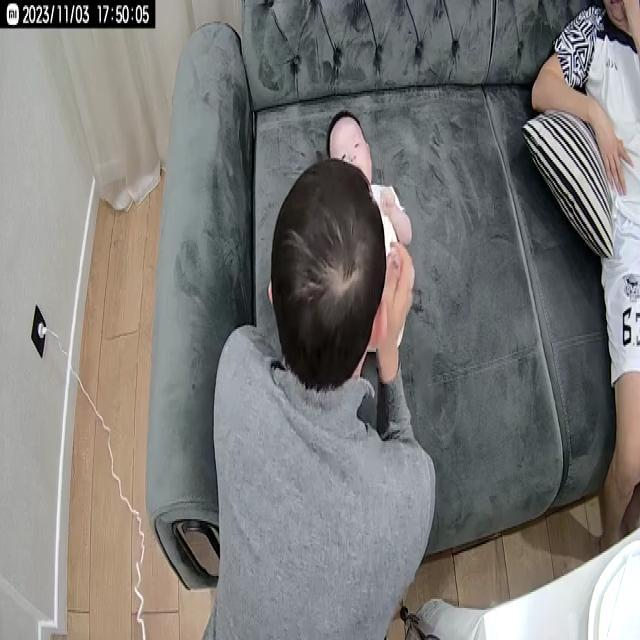baby: (326, 110, 416, 357)
